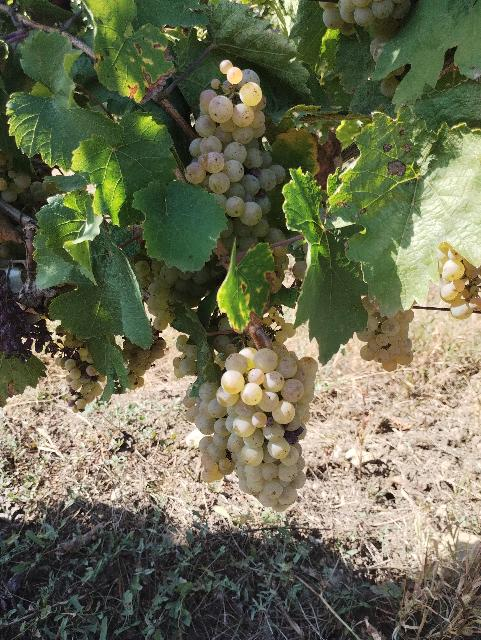grapes: (185, 60, 286, 238), (218, 346, 319, 511), (182, 381, 235, 482), (358, 296, 415, 371), (439, 242, 481, 320)
